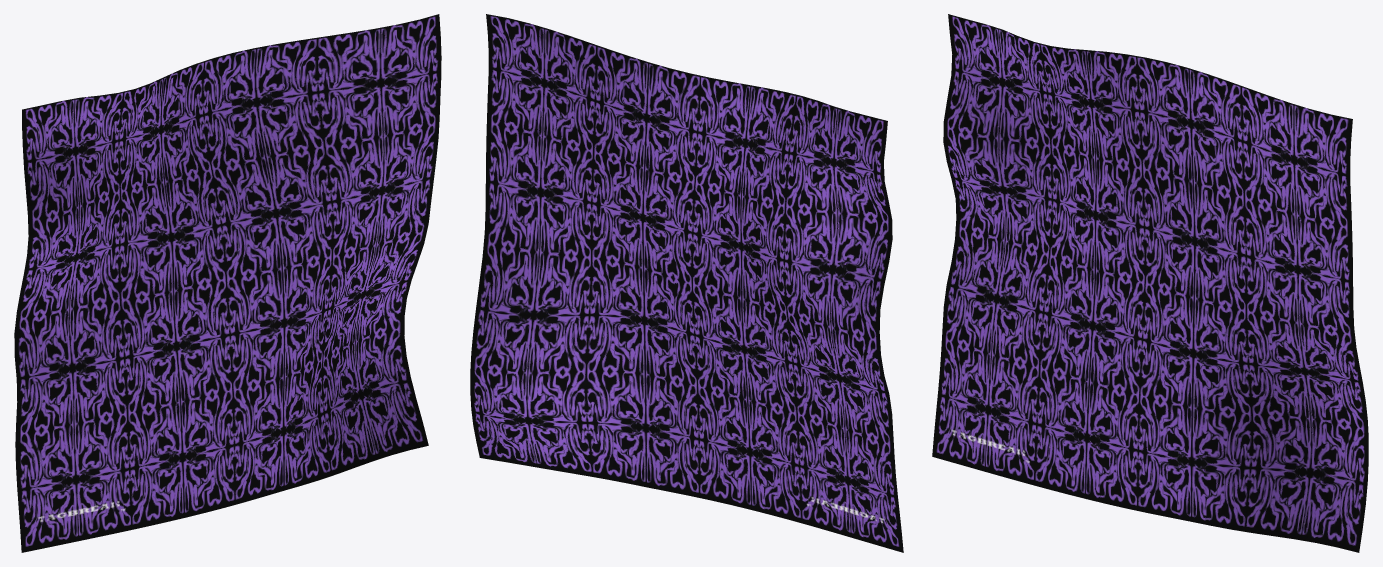
Rendered from midnight.glb.
The picture shows the model from 3 angles, left to right: view 1: azimuth 30°, elevation 25°; view 2: azimuth 150°, elevation 25°; view 3: azimuth 330°, elevation 25°; orthographic projection.
Visible parts, largest first — view 1: Plane; view 2: Plane; view 3: Plane.
Part boxes in pixels (x1=…): Plane: x1=14, y1=14, x2=441, y2=552; Plane: x1=470, y1=14, x2=903, y2=552; Plane: x1=932, y1=14, x2=1368, y2=552.
Size of the model in its own units: 2 by 2.01 by 0.2616.
Materials: 1 (1 with a texture image).
